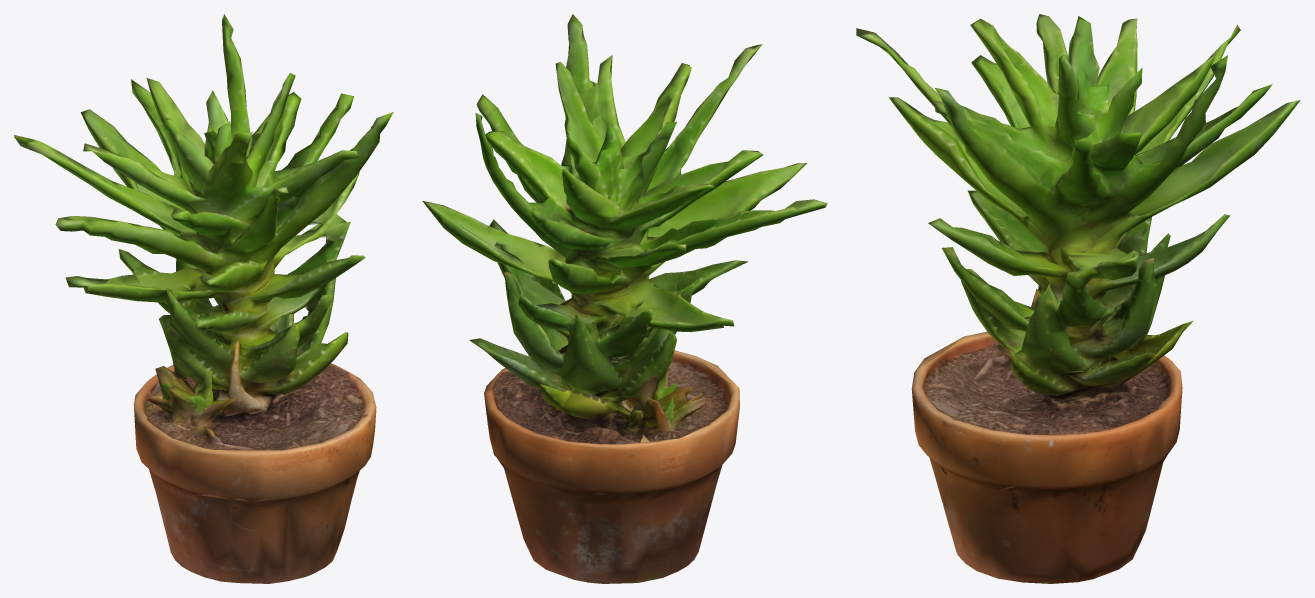
The model's file is SPIKED_SUCCULENT_5K.fbx.
3 views of the same model, side by side, from view 1: azimuth 30°, elevation 25°; view 2: azimuth 150°, elevation 25°; view 3: azimuth 270°, elevation 25° (orthographic). The views are drawn at different scales.
Parts seen in each view (by area): view 1: SPIKEY_SUCCULENT_5K; view 2: SPIKEY_SUCCULENT_5K; view 3: SPIKEY_SUCCULENT_5K.
Part boxes in pixels (box(x1,y1,x2,y2)): SPIKEY_SUCCULENT_5K: box(14, 14, 393, 583); SPIKEY_SUCCULENT_5K: box(422, 14, 827, 583); SPIKEY_SUCCULENT_5K: box(856, 14, 1300, 583).
Bounding box in the file's own units: 35.95 × 45.95 × 35.68.
1 material, 1 textured.
